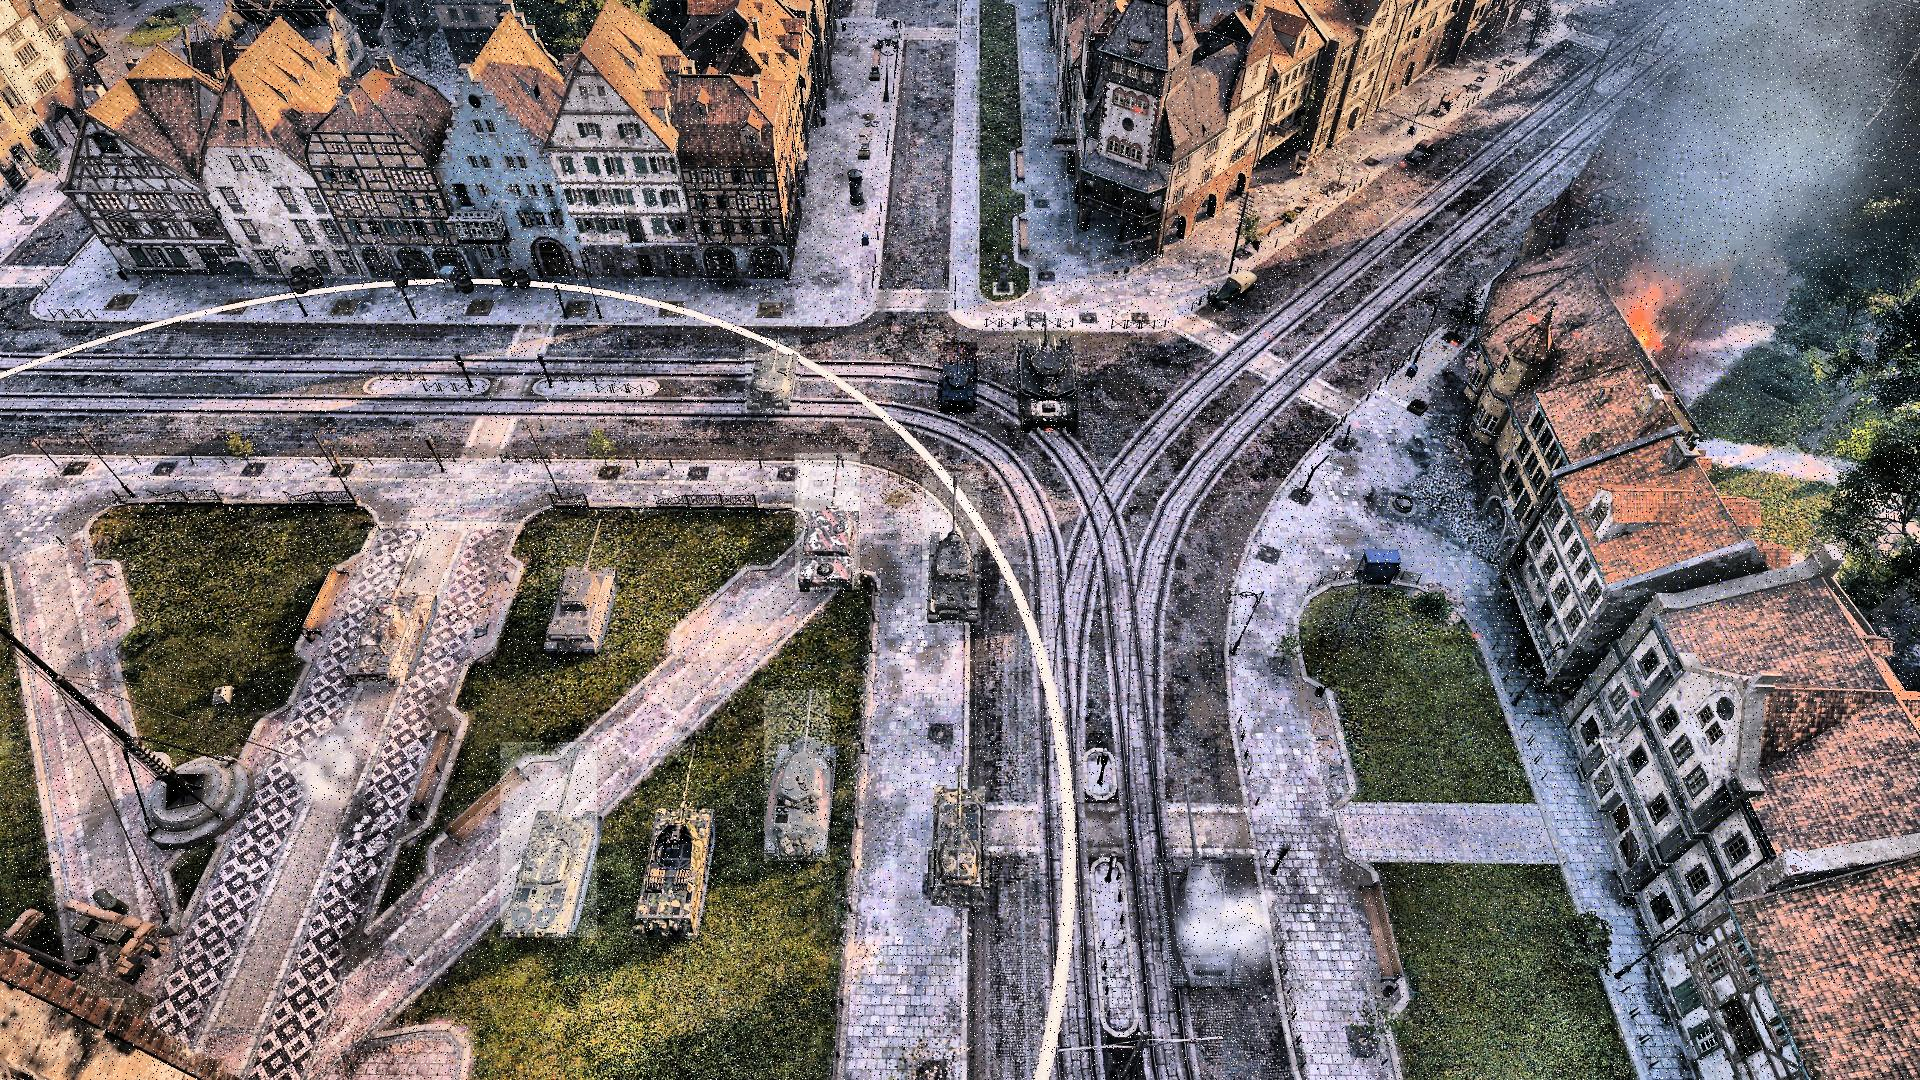military-vehicle: (501, 742, 597, 938), (632, 740, 719, 940), (349, 531, 448, 687), (765, 691, 831, 862), (547, 516, 620, 659), (923, 472, 981, 626), (795, 454, 860, 591), (1014, 313, 1081, 436), (930, 767, 988, 909), (745, 339, 800, 414), (939, 342, 978, 413)
